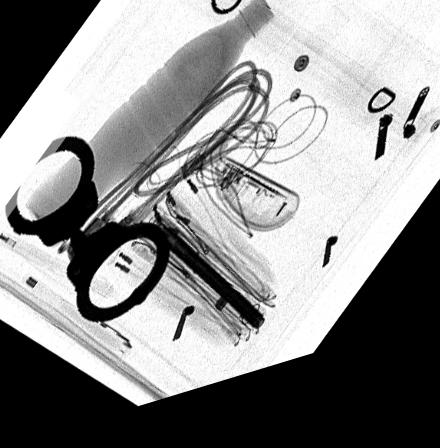HandCuffs: (5, 139, 169, 329)
